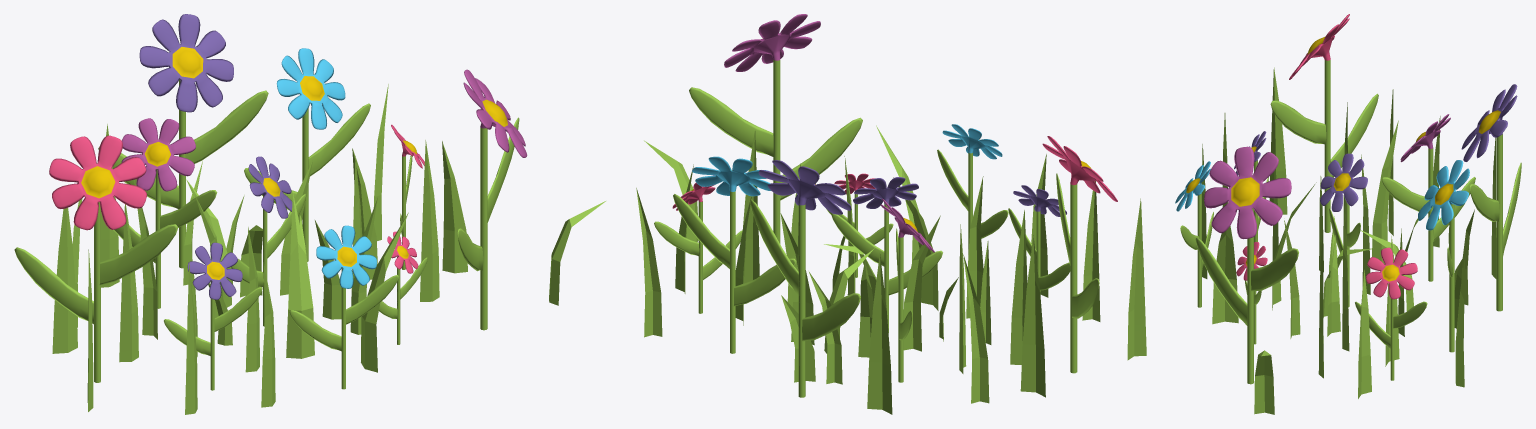
File: CveceTrava.fbx
3 views of the same model, side by side, from view 1: azimuth 30°, elevation 25°; view 2: azimuth 150°, elevation 25°; view 3: azimuth 270°, elevation 25° (orthographic). The views are drawn at different scales.
Parts seen in each view (by area): view 1: flower.009, flower.019, flower.008, flower.007, flower.001, flower.018, flower.016, grass1.002, flower.011, flower.006, flower.010, grass_mani (+27 smaller); view 2: flower.016, flower.018, flower.006, grass1.004, grass_mani, flower.017, flower.008, flower.019, grass1.024, flower.012, flower.007, grass1.025 (+29 smaller); view 3: flower.017, flower.016, flower.008, flower.018, flower.007, flower.015, flower.013, flower, flower.019, grass1.022, grass1.012, flower.014 (+26 smaller).
Part boxes in pixels (left/top/right/bottom): flower.009: left=49, top=135, right=146, bottom=230; flower.019: left=139, top=14, right=233, bottom=112; flower.008: left=14, top=202, right=178, bottom=382; flower.007: left=276, top=48, right=345, bottom=129; flower.001: left=121, top=118, right=195, bottom=191; flower.018: left=98, top=79, right=268, bottom=268; flower.016: left=457, top=117, right=519, bottom=330; grass1.002: left=286, top=192, right=314, bottom=358; flower.011: left=316, top=225, right=376, bottom=288; flower.006: left=244, top=103, right=370, bottom=261; flower.010: left=289, top=268, right=399, bottom=389; grass_mani: left=52, top=207, right=77, bottom=353; flower.016: left=689, top=60, right=862, bottom=243; flower.018: left=750, top=199, right=860, bottom=397; flower.006: left=673, top=191, right=796, bottom=353; grass1.004: left=867, top=253, right=892, bottom=414; grass_mani: left=1020, top=235, right=1045, bottom=397; flower.017: left=724, top=14, right=820, bottom=71; flower.008: left=1056, top=173, right=1099, bottom=373; flower.019: left=758, top=160, right=851, bottom=214; grass1.024: left=1127, top=198, right=1146, bottom=360; flower.012: left=831, top=204, right=942, bottom=332; flower.007: left=692, top=156, right=770, bottom=196; grass1.025: left=636, top=188, right=662, bottom=337; flower.017: left=1204, top=146, right=1291, bottom=239; flower.016: left=1195, top=208, right=1298, bottom=384; flower.008: left=1270, top=60, right=1378, bottom=232; flower.018: left=1469, top=134, right=1521, bottom=311; flower.007: left=1418, top=160, right=1469, bottom=230; flower.015: left=1366, top=247, right=1417, bottom=299; flower.013: left=1320, top=153, right=1367, bottom=211; flower: left=1382, top=148, right=1475, bottom=281; flower.019: left=1461, top=84, right=1517, bottom=161; grass1.022: left=1212, top=226, right=1238, bottom=324; grass1.012: left=1372, top=120, right=1398, bottom=264; flower.014: left=1355, top=298, right=1427, bottom=380.
Bounding box in the file's own units: 682 × 320 × 430.
